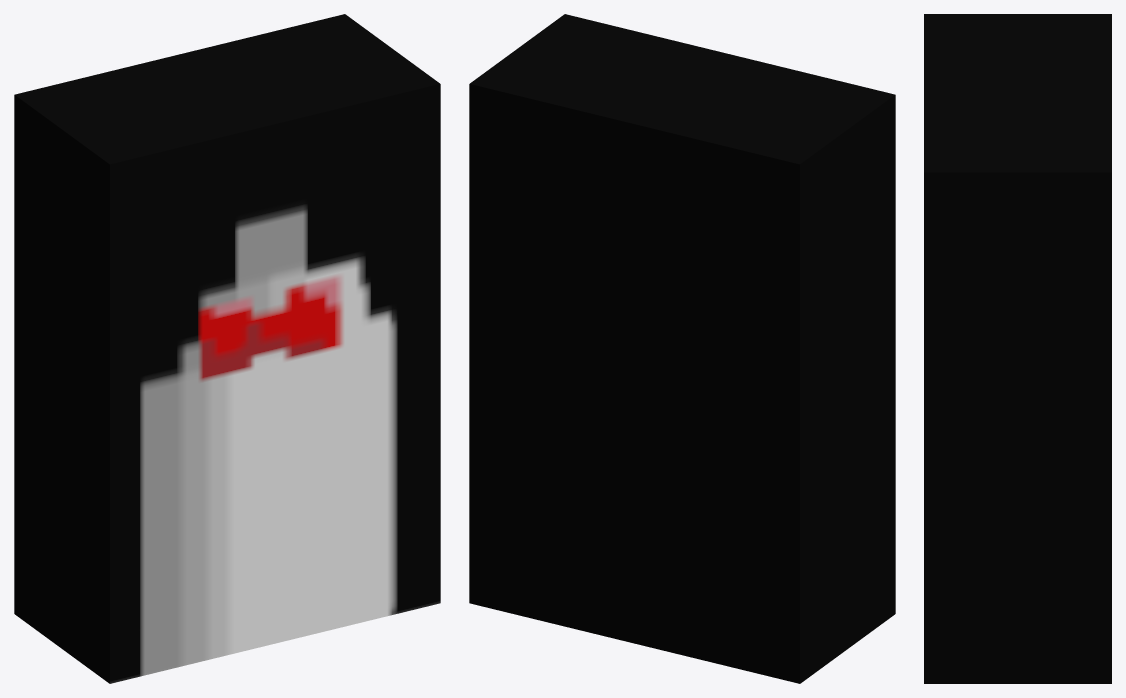
The model's file is wheezy_torso.obj.
3 renders of one model, left to right at view 1: azimuth 30°, elevation 25°; view 2: azimuth 150°, elevation 25°; view 3: azimuth 270°, elevation 25°, orthographic.
Visible parts, largest first — view 1: dorso_Cube; view 2: dorso_Cube; view 3: dorso_Cube.
Part boxes in pixels (x1,y1,x2,y2): dorso_Cube: (14, 14, 440, 683); dorso_Cube: (469, 14, 895, 683); dorso_Cube: (924, 14, 1111, 683).
Size of the model in its own units: 6.39 by 9.52 by 3.17.
